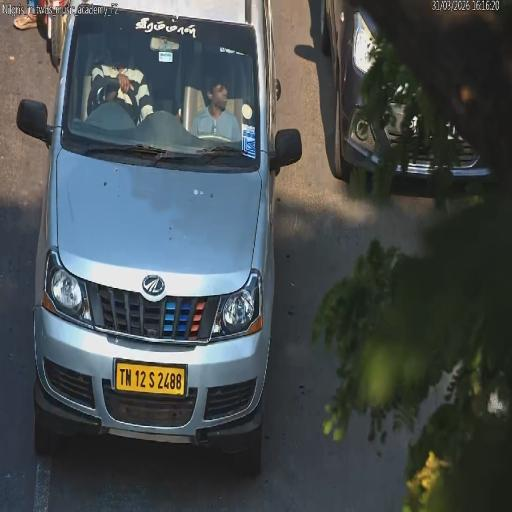person_with_seatbelt: (100, 47, 132, 112)
person_without_seatbelt: (197, 104, 239, 135)
